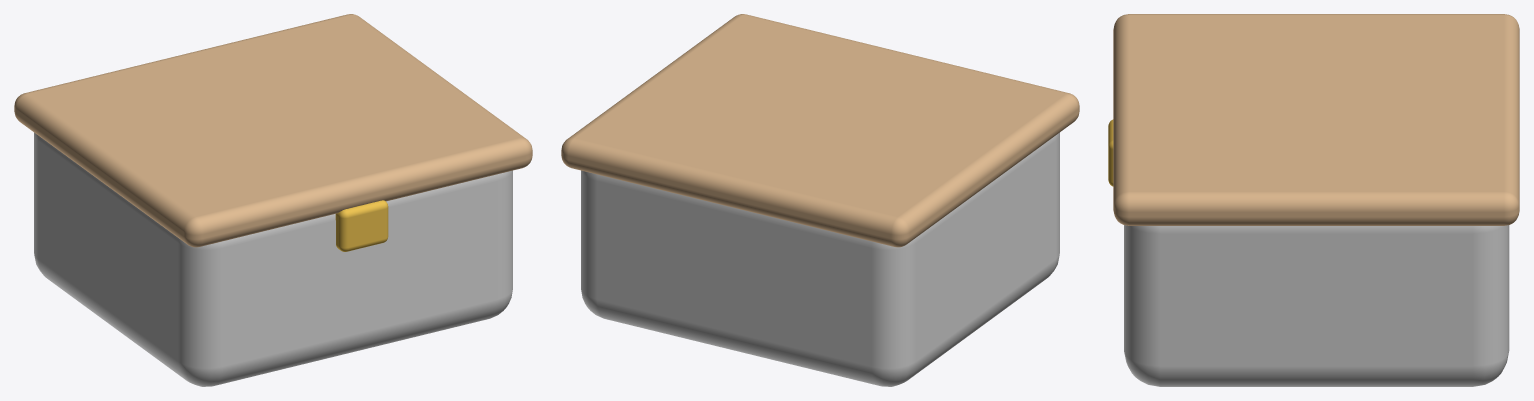
File: obstaculo_caja_de_costura.glb
3 views of the same model, side by side, from view 1: azimuth 30°, elevation 25°; view 2: azimuth 150°, elevation 25°; view 3: azimuth 270°, elevation 25° (orthographic). The views are drawn at different scales.
Parts seen in each view (by area): view 1: Tapa, Caja de costura, Cierre; view 2: Tapa, Caja de costura; view 3: Tapa, Caja de costura, Cierre.
Boxes of the visible parts, bbox=[...] form: Tapa: bbox=[14, 14, 532, 247]; Caja de costura: bbox=[34, 132, 512, 386]; Cierre: bbox=[335, 200, 388, 251]; Tapa: bbox=[561, 14, 1079, 247]; Caja de costura: bbox=[581, 132, 1059, 386]; Tapa: bbox=[1113, 14, 1519, 225]; Caja de costura: bbox=[1124, 225, 1509, 386]; Cierre: bbox=[1108, 119, 1113, 186].
Bounding box in the file's own units: 0.86 × 0.435 × 0.79.
